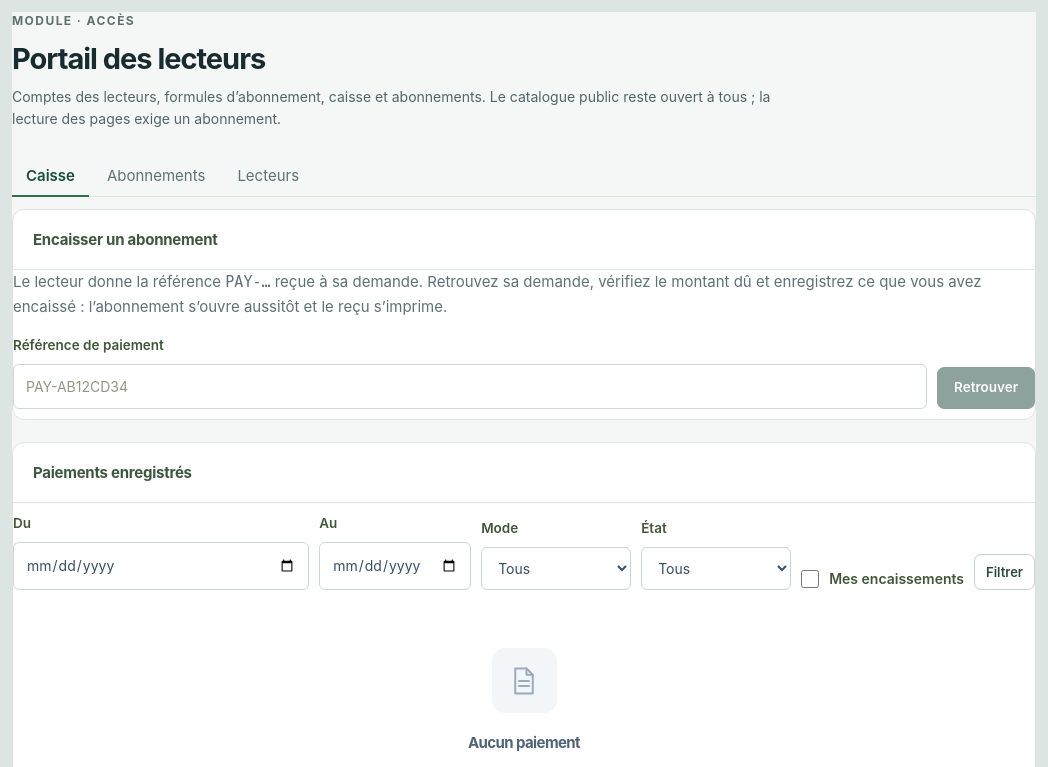
une référence inconnue montre le message du serveur
The width and height of the screenshot is (1048, 767).
Type "PAY-ZZZZZZZZ" into the field labelled "Référence de paiement" at point(470, 386), box top-left (13, 364), bottom-right (927, 409)
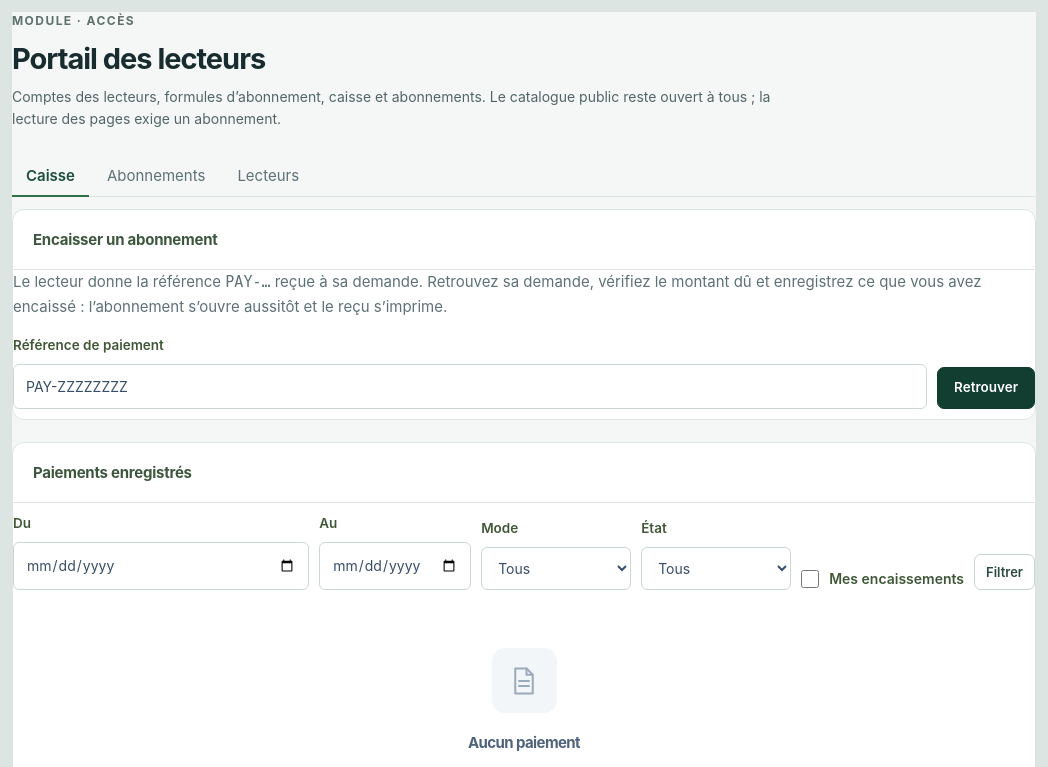
Click the button "Retrouver" at point(986, 388), box top-left (937, 367), bottom-right (1035, 409)
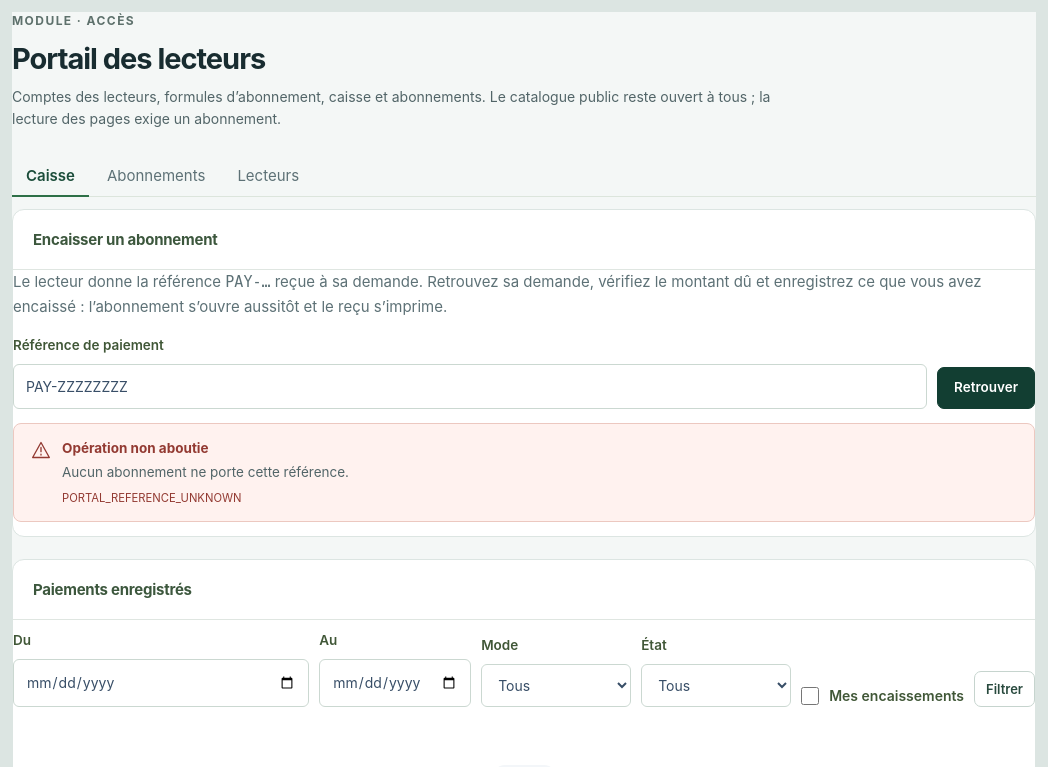
Check: the text "Aucun abonnement ne porte cette référence." is shown, box top-left (62, 460), bottom-right (349, 484)
